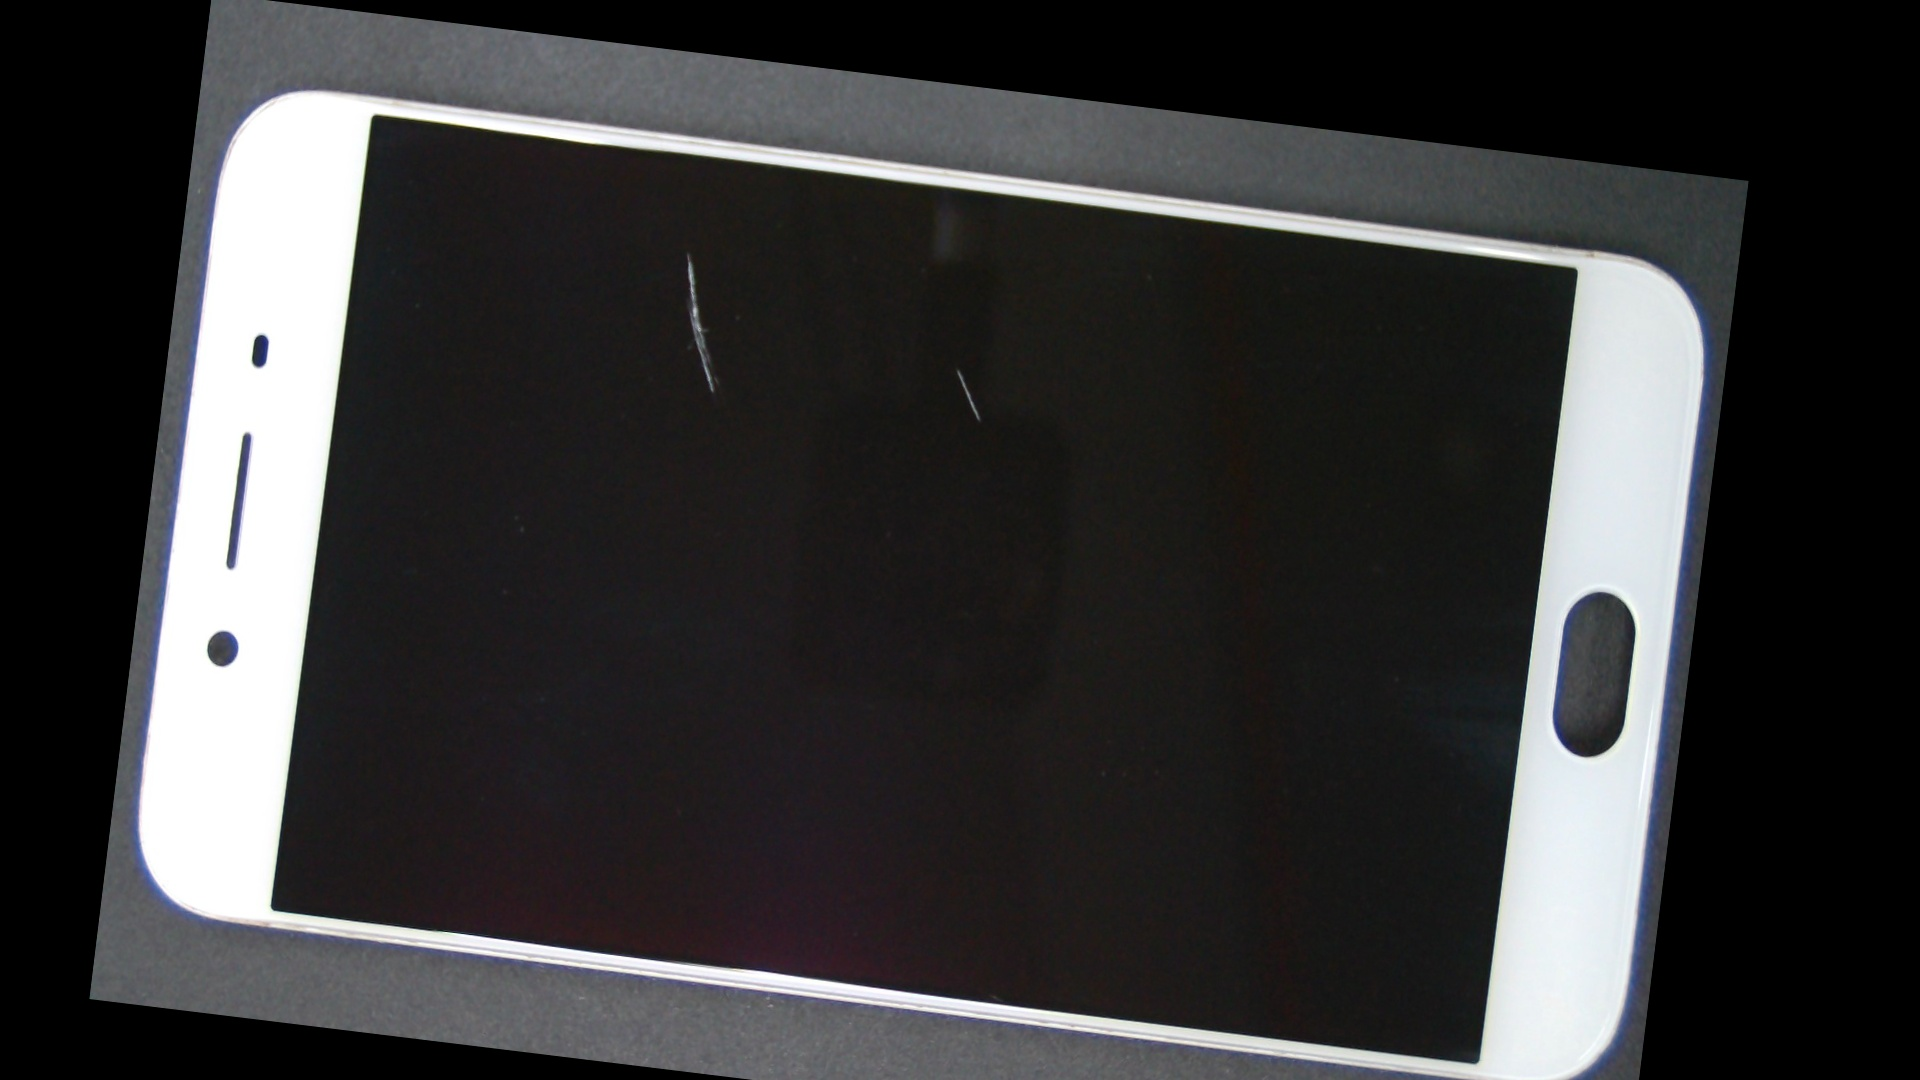oil: (551, 181, 1366, 558), (429, 121, 951, 385)
